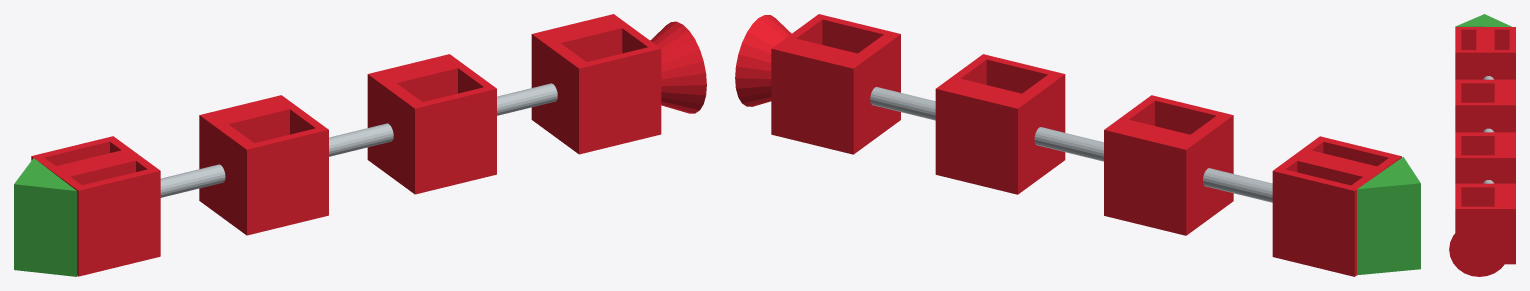
The model's file is tinker.obj.
3 renders of one model, left to right at view 1: azimuth 30°, elevation 25°; view 2: azimuth 150°, elevation 25°; view 3: azimuth 270°, elevation 25°, orthographic. The views are drawn at different scales.
Visible parts, largest first — view 1: group_0_15277357, group_0_4634441, group_0_12568524; view 2: group_0_15277357, group_0_4634441, group_0_12568524; view 3: group_0_15277357, group_0_4634441, group_0_12568524.
Part boxes in pixels (x1,y1,x2,y2): group_0_15277357: (31,14,706,276); group_0_4634441: (14,158,77,276); group_0_12568524: (160,83,557,197); group_0_15277357: (735,14,1401,276); group_0_4634441: (1357,157,1420,275); group_0_12568524: (870,87,1272,202); group_0_15277357: (1449,27,1515,276); group_0_4634441: (1455,14,1511,26); group_0_12568524: (1483,76,1493,183).
Bounding box in the file's own units: 162 × 20 × 22.
